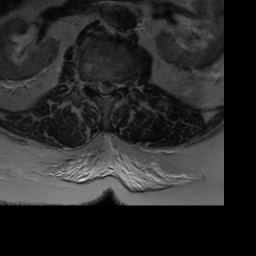CCS_stenosis: (102, 74, 108, 105)
LFS_stenosis: (116, 74, 123, 97)
LLS_stenosis: (108, 74, 116, 99)
RFS_normal: (87, 71, 95, 94)
RLS_stenosis: (95, 73, 102, 100)
